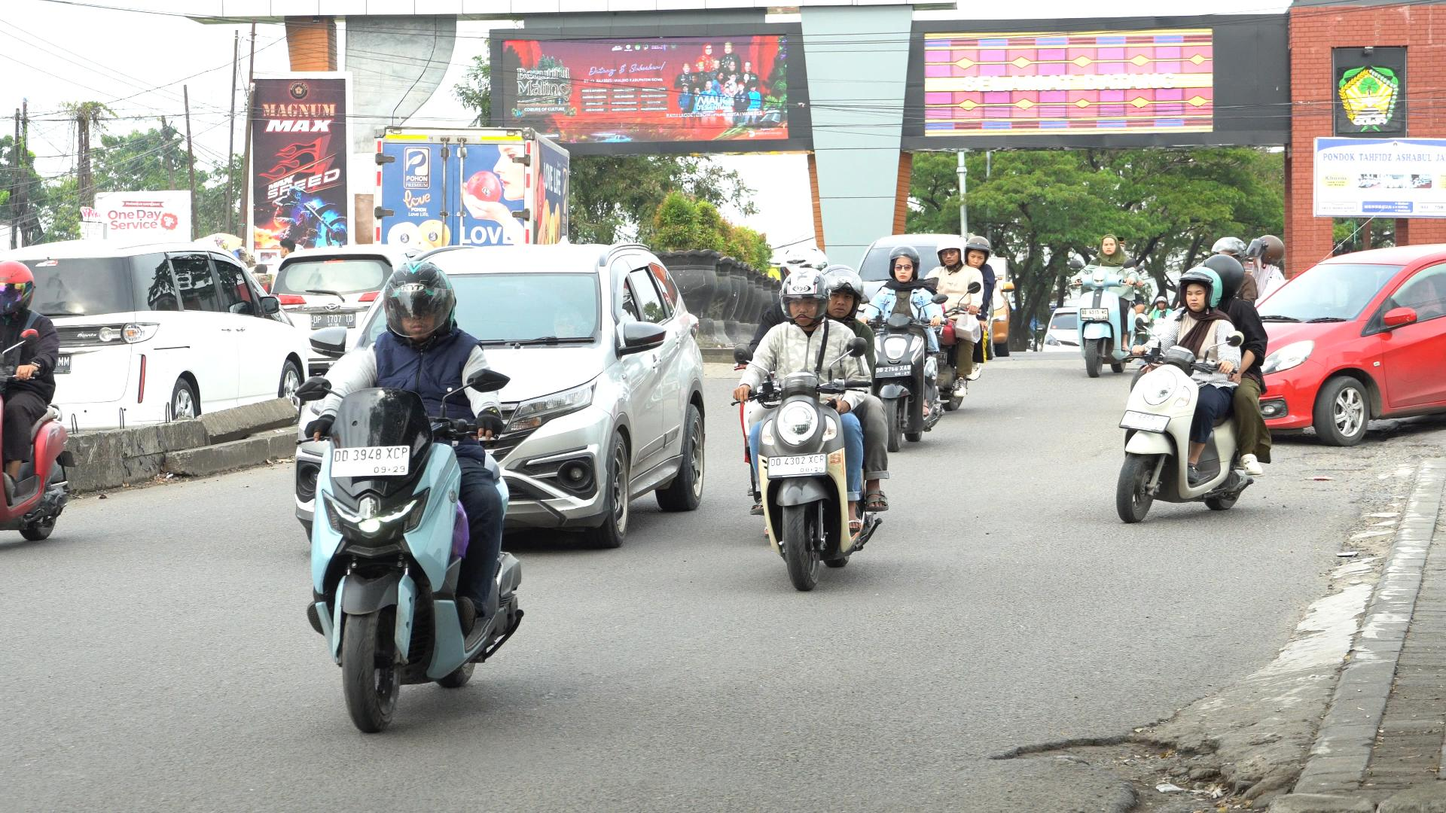number-plate: (328, 443, 409, 479), (765, 453, 828, 479)
